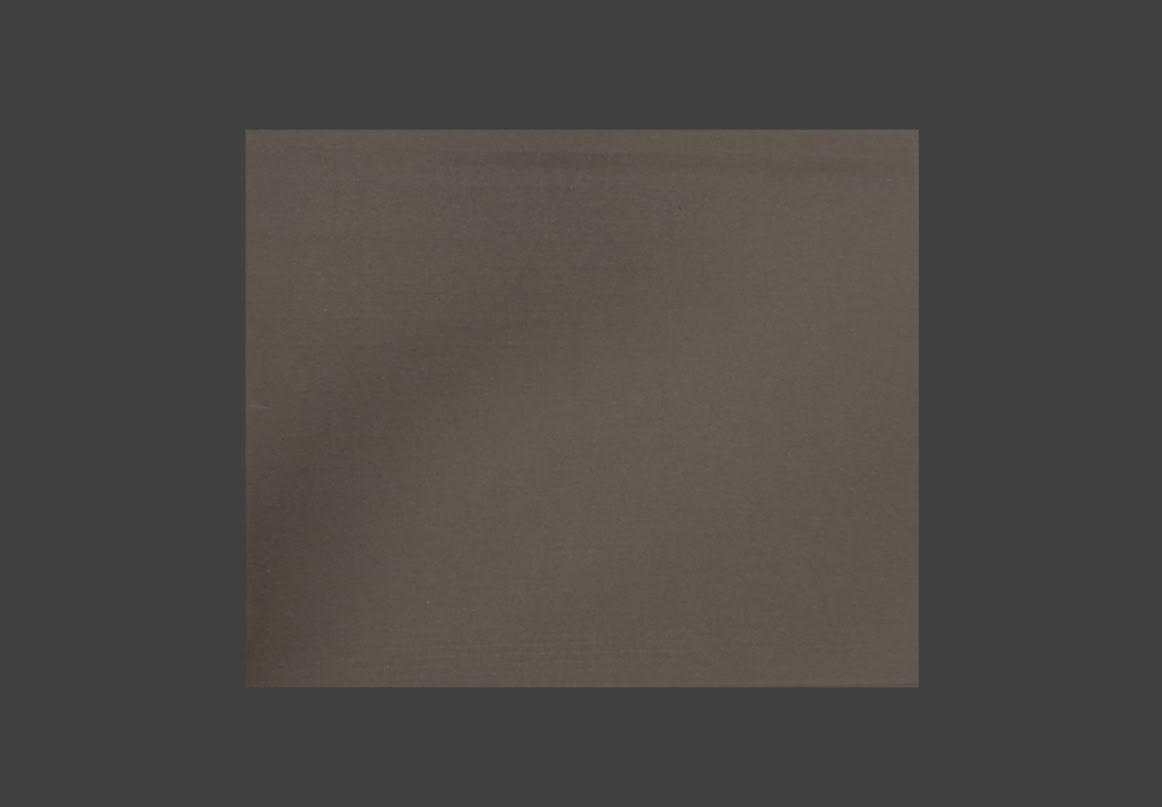group_box_left: (244, 126, 924, 692)
